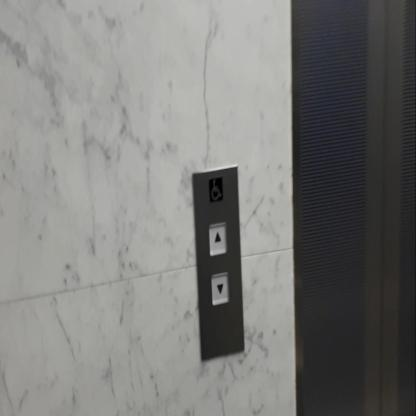CH: (208, 176, 223, 202)
close: (210, 271, 230, 306)
open: (208, 222, 227, 256)
